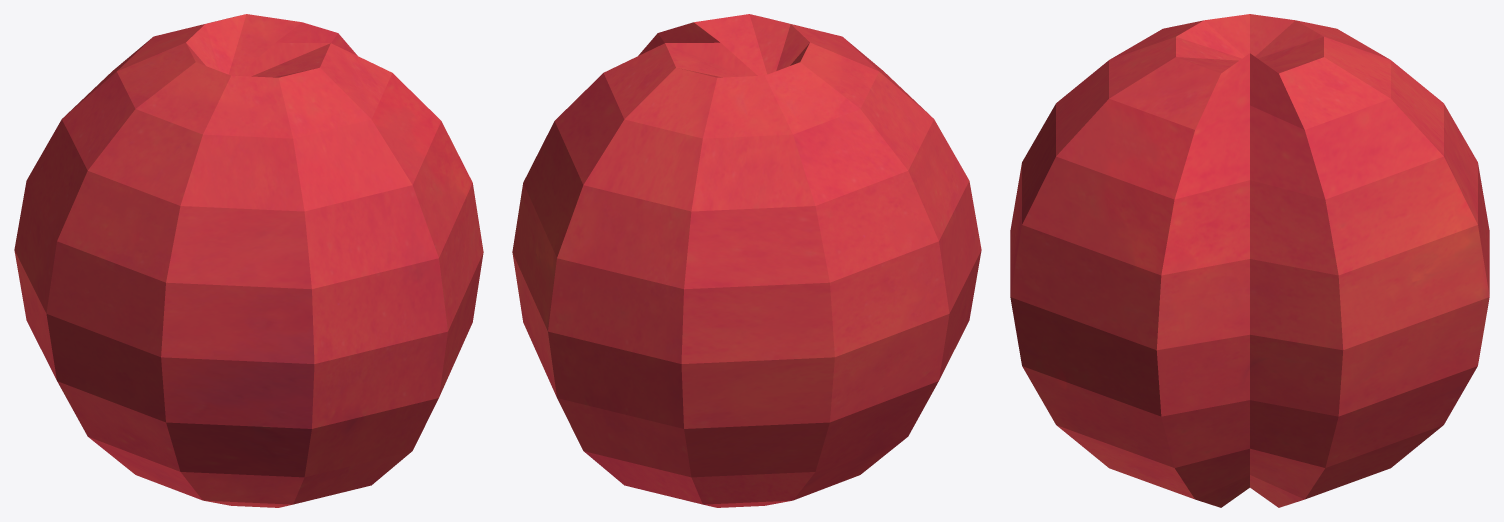
The model's file is peach.fbx.
3 renders of one model, left to right at view 1: azimuth 30°, elevation 25°; view 2: azimuth 150°, elevation 25°; view 3: azimuth 270°, elevation 25°, orthographic.
Parts seen in each view (by area): view 1: pSphere1; view 2: pSphere1; view 3: pSphere1.
Boxes of the visible parts, left/top/right/bottom form: pSphere1: left=14, top=14, right=483, bottom=507; pSphere1: left=512, top=14, right=981, bottom=507; pSphere1: left=1010, top=14, right=1489, bottom=507.
Bounding box in the file's own units: 1.81 × 1.95 × 1.9.
